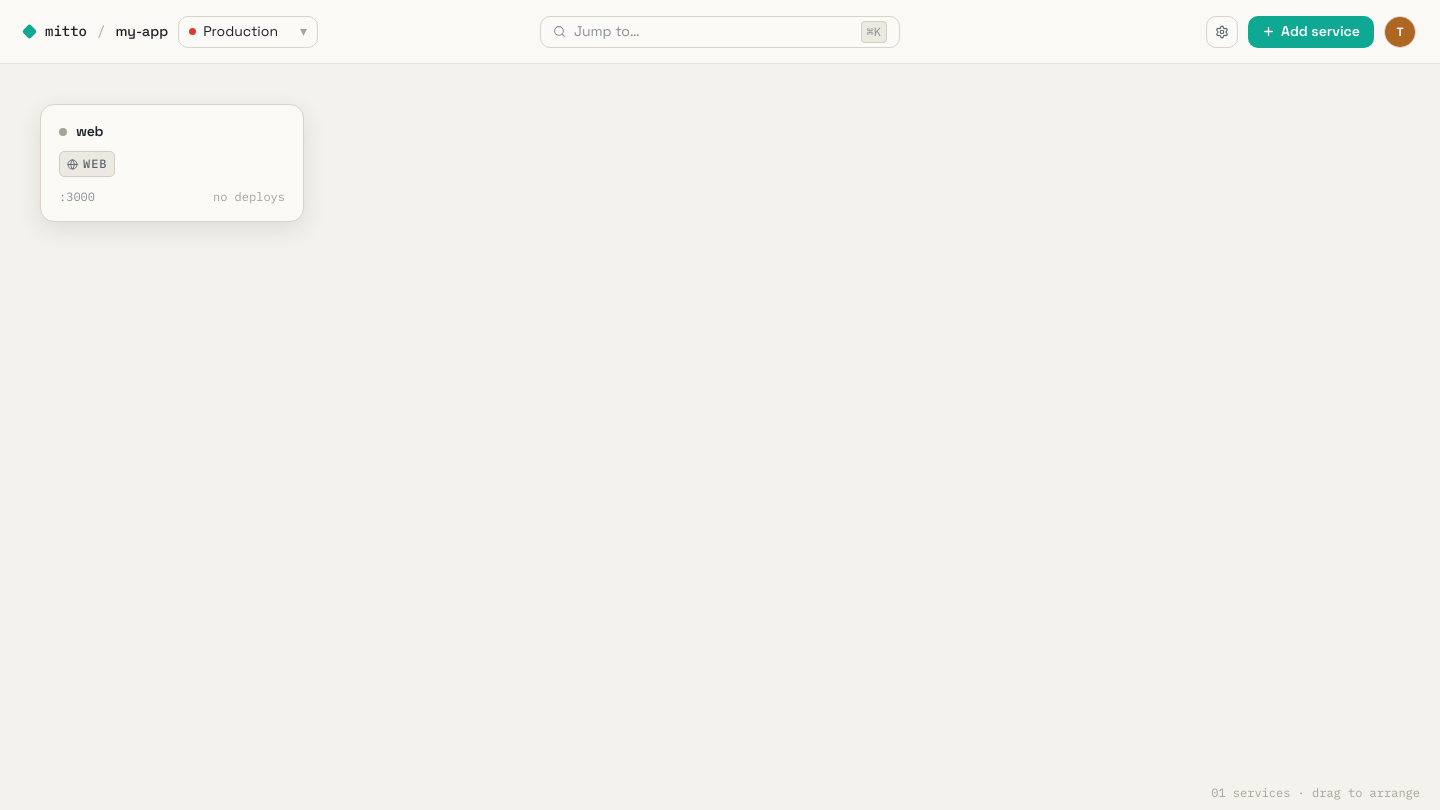
ProjectPage (canvas) › opens the service detail panel when a service card is clicked
The image size is (1440, 810).
Check: the button "my-app" is shown, box [115, 21, 168, 42]
What coordinates should you click on to do the following:
click the button with test id "service-card-svc-1"
I would click on:
 (87, 164)
Its box is [40, 104, 304, 222].
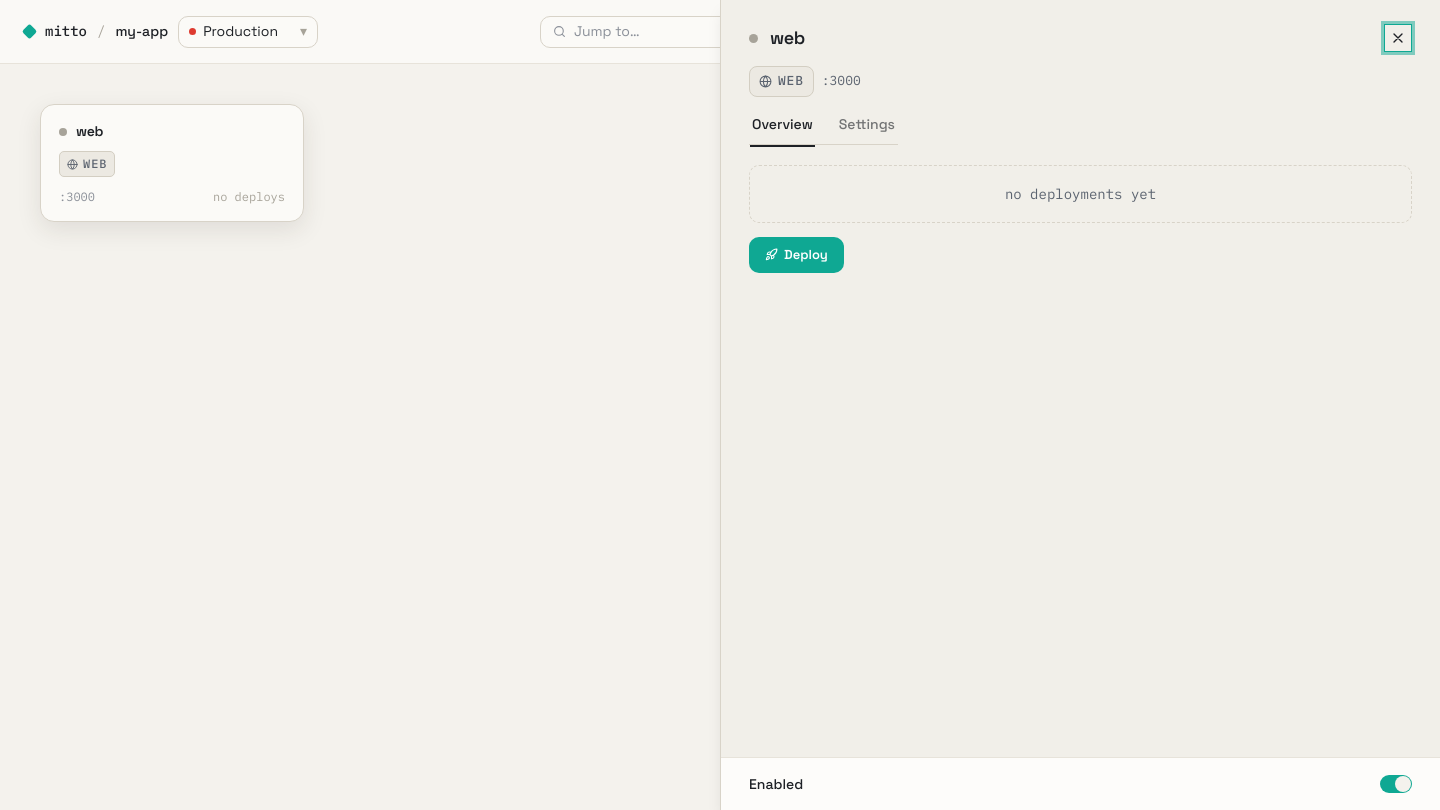
Check: the button named "Close panel" is shown, box [1384, 24, 1412, 52]
